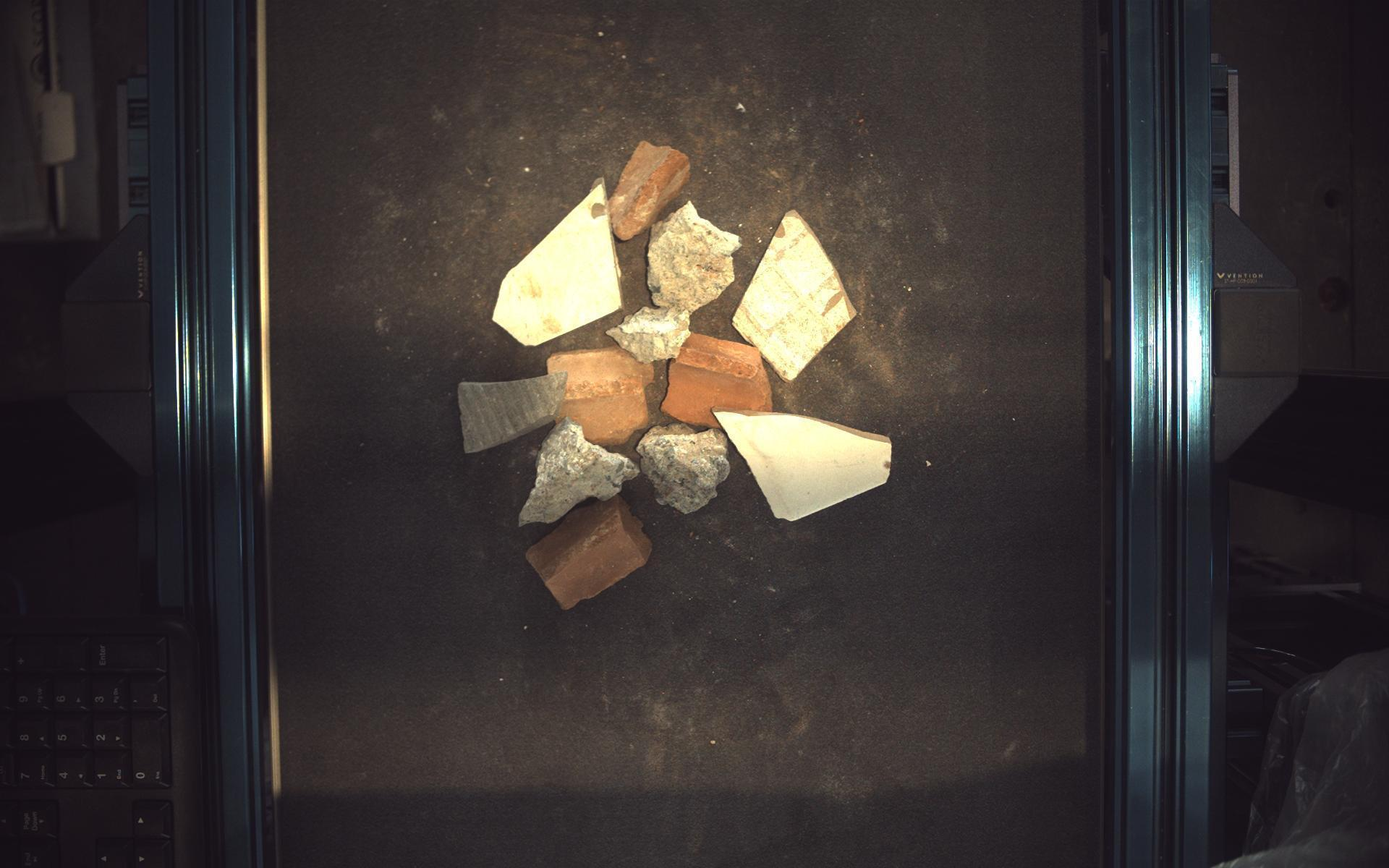brick: (526, 495, 653, 610), (548, 346, 654, 446), (662, 333, 773, 427), (608, 140, 692, 239)
concrete: (519, 417, 640, 526), (648, 201, 742, 312), (637, 423, 731, 514), (608, 307, 692, 363)
tile: (493, 177, 622, 346), (734, 209, 859, 381), (715, 409, 892, 522), (458, 372, 568, 454)
